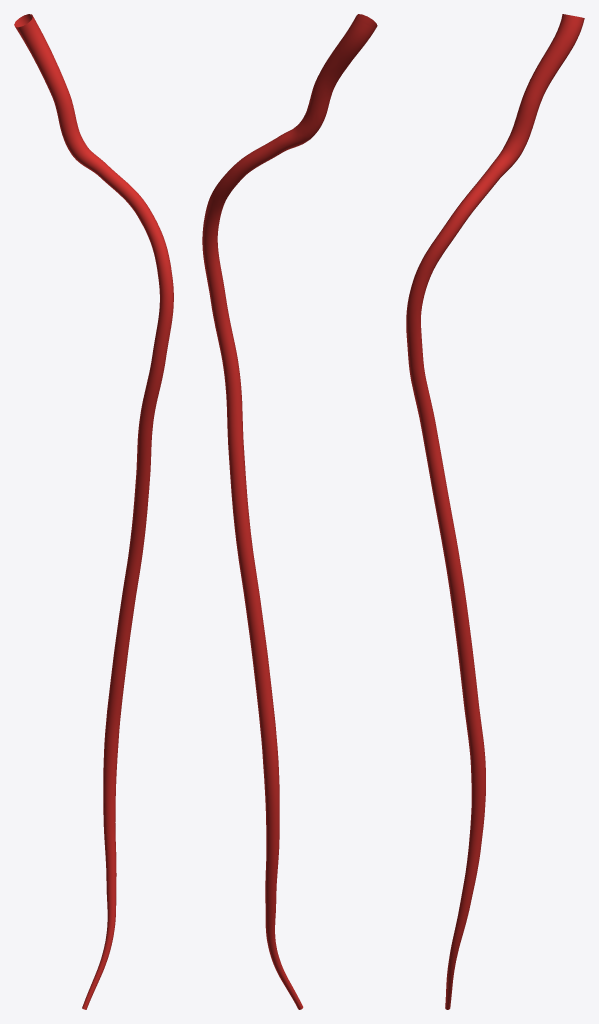
File: circulatorio-anterior-tibial-veins-l.glb
3 views of the same model, side by side, from view 1: azimuth 30°, elevation 25°; view 2: azimuth 210°, elevation 25°; view 3: azimuth 270°, elevation 25° (orthographic). The views are drawn at different scales.
Parts seen in each view (by area): view 1: Anterior tibial veins.l; view 2: Anterior tibial veins.l; view 3: Anterior tibial veins.l.
Boxes of the visible parts, <box> form: Anterior tibial veins.l: <box>14,14,173,1009</box>; Anterior tibial veins.l: <box>202,14,377,1009</box>; Anterior tibial veins.l: <box>406,14,584,1009</box>.
Bounding box in the file's own units: 0.0268 × 0.2913 × 0.0473.
